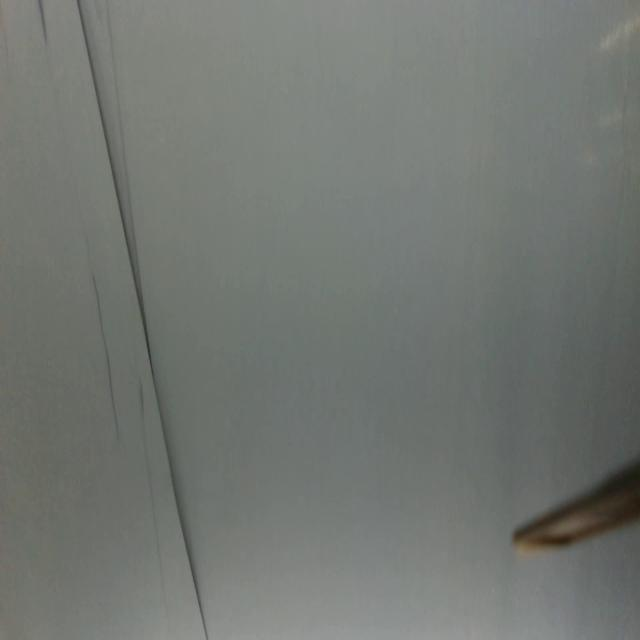crease: (76, 0, 212, 639), (138, 379, 168, 623), (92, 272, 122, 444), (37, 0, 47, 41)
